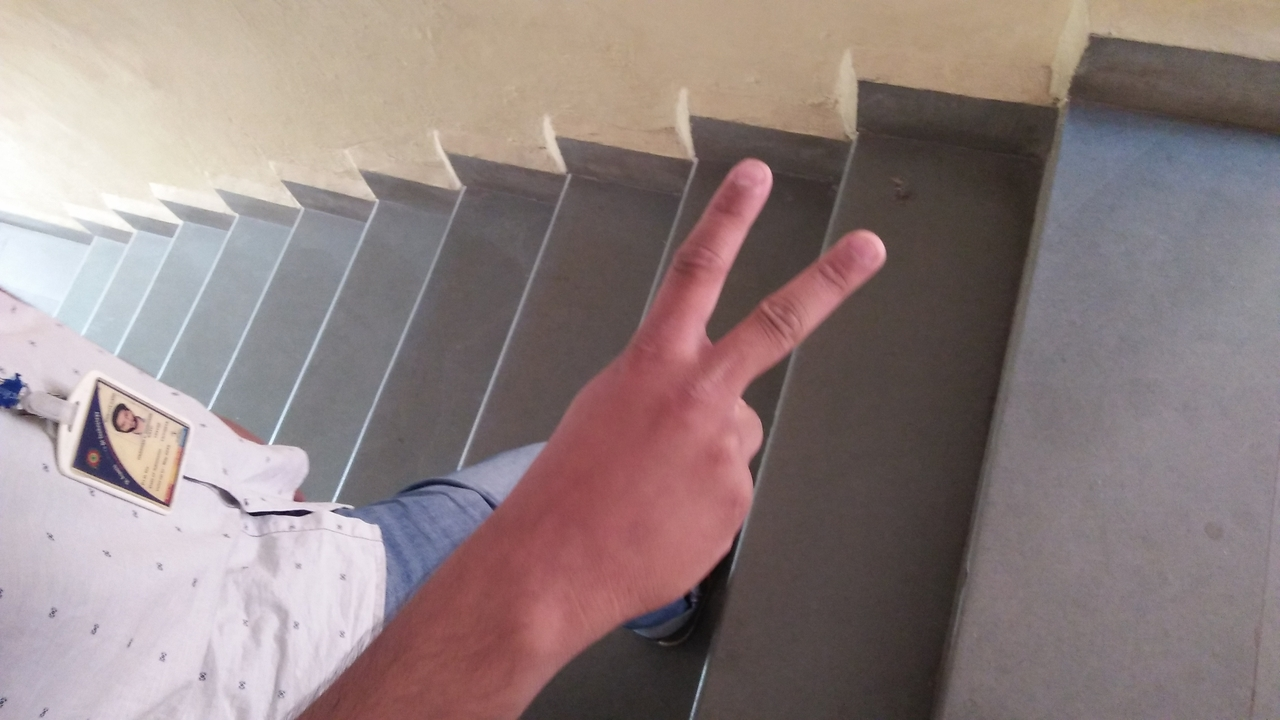fingertip: (824, 218, 894, 278), (712, 154, 774, 204), (822, 44, 866, 74)
